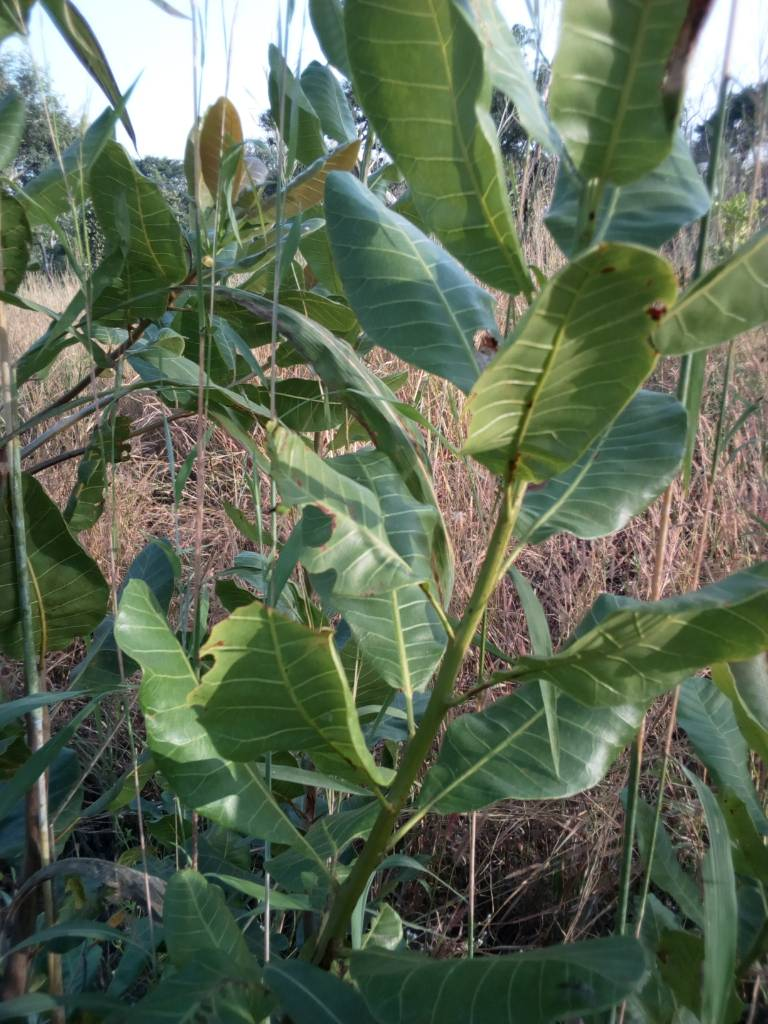Anoplocnemis curvipes: (190, 600, 375, 788)
